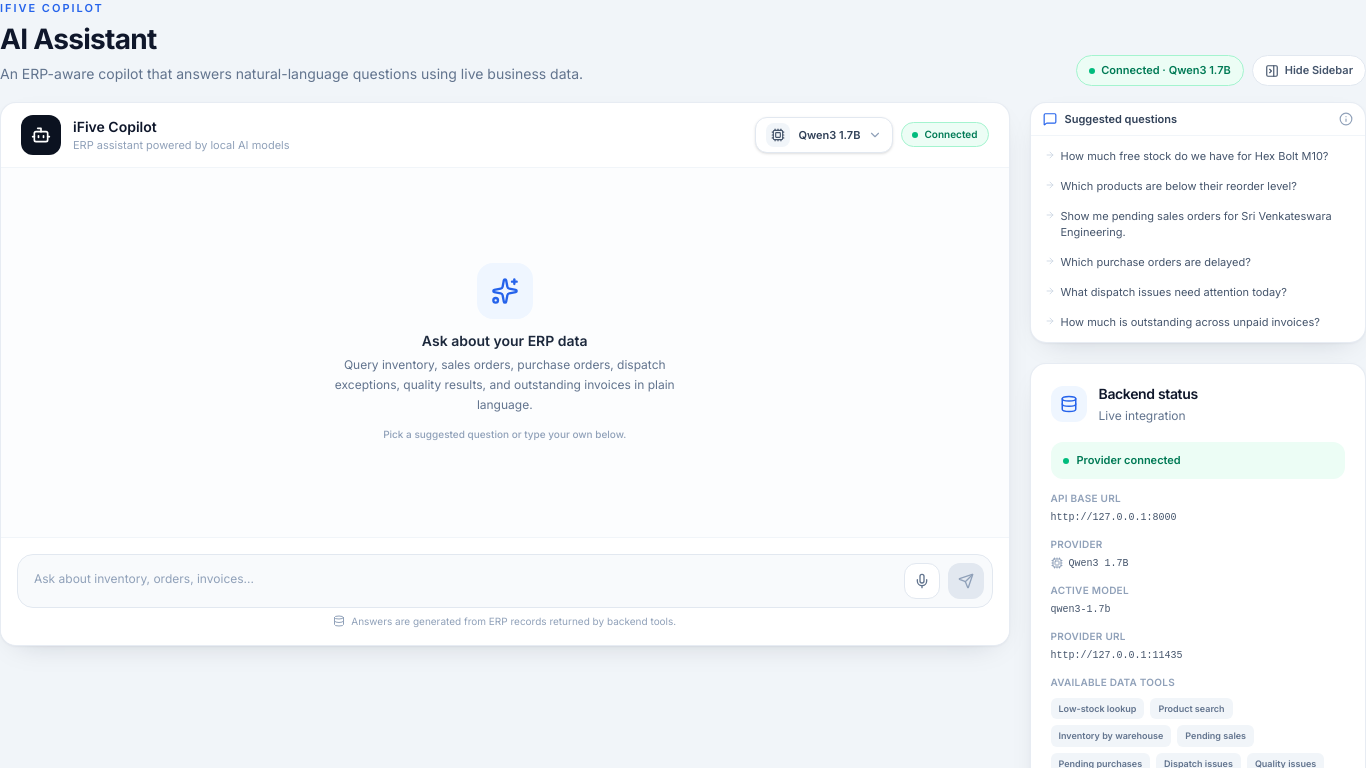
Test: AIAssistant model switching › renders live Qwen3 connectivity and Ollama unavailability
Click the button with test id "model-selector" at point(824, 135), box [755,117,894,153]
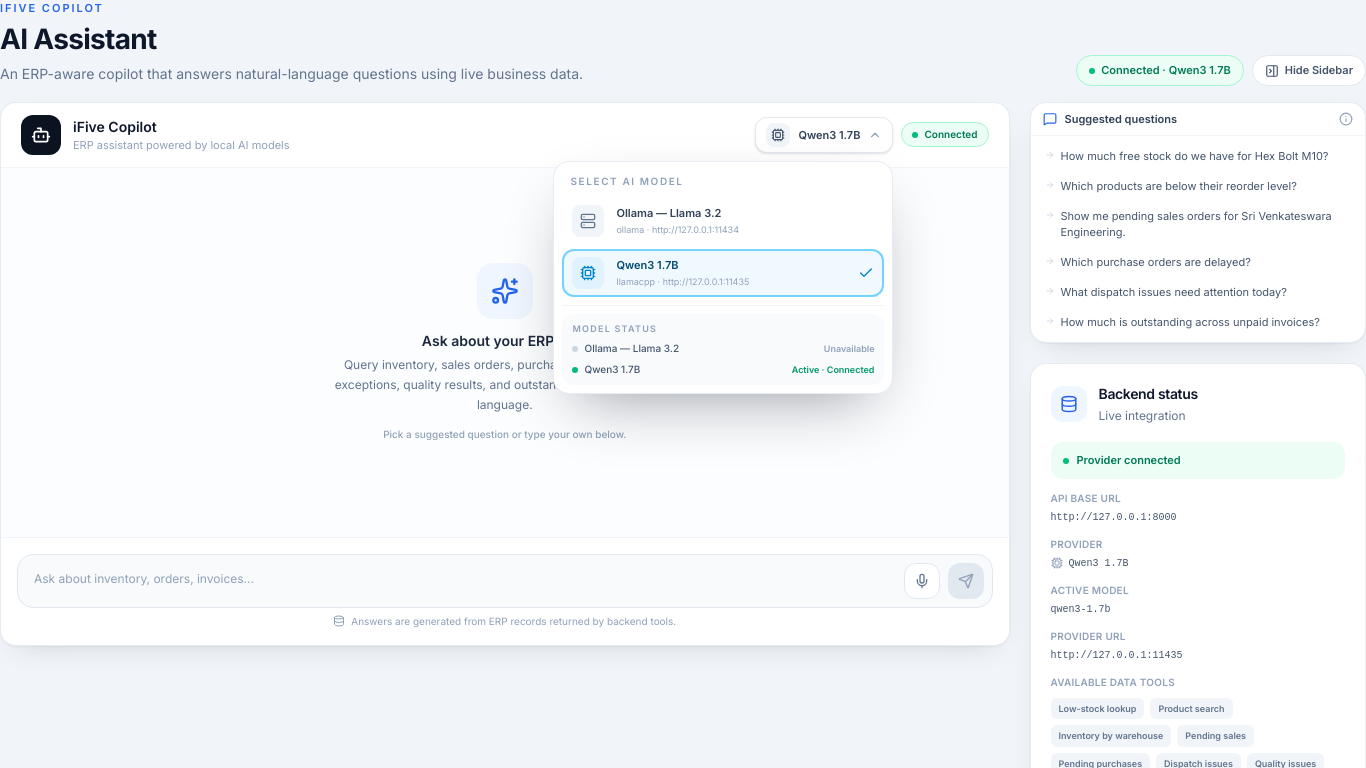
expect the text with test id "active-model" reads "Qwen3 1.7B": met, box [798,128,860,142]
expect the text "Active · Connected" is shown: met, box [792,363,874,377]
expect the text "Unavailable" is shown: met, box [824,342,874,356]
